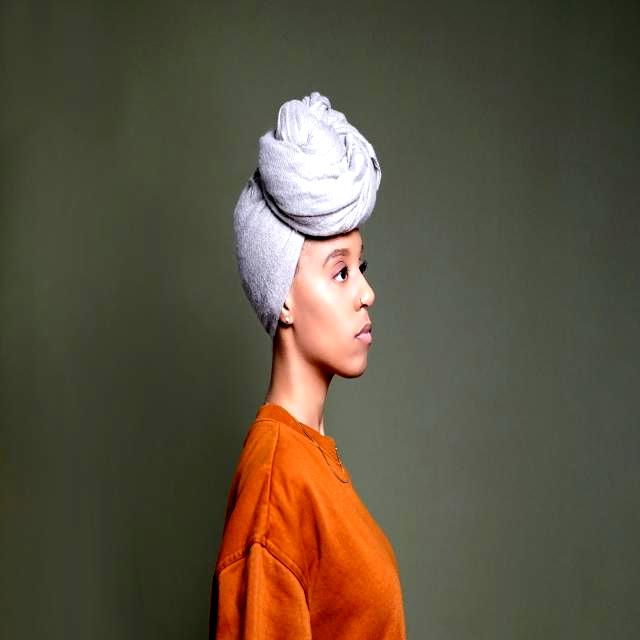no_hard_hat: (234, 92, 381, 333)
